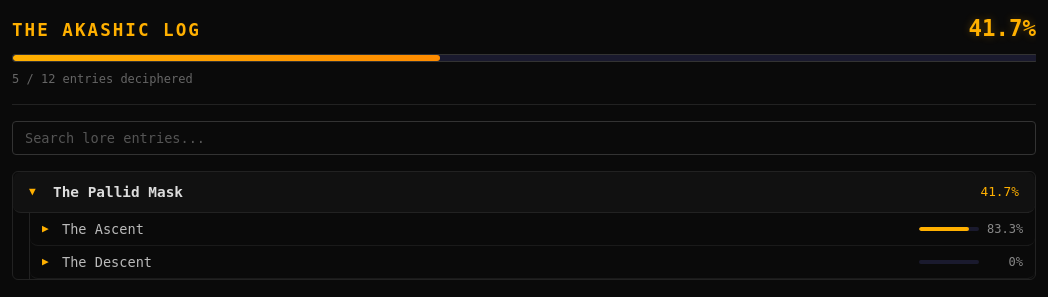
Test case: AkashicLog Component › filters beats by search query
Expected: the text "The Pallid Mask" is shown, x1=53 y1=184 x2=183 y2=200
Type "void" into the field with placeholder "Search lore entries..." at (524, 138), box x1=12 y1=121 x2=1036 y2=155
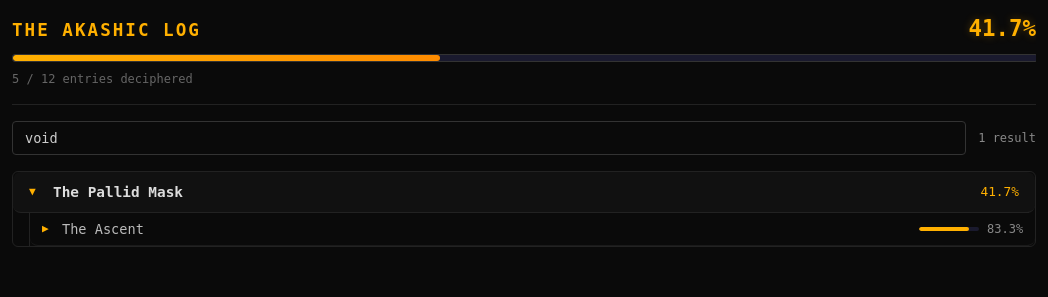
Result: the text "1 result" is shown at x1=978 y1=129 x2=1036 y2=147
